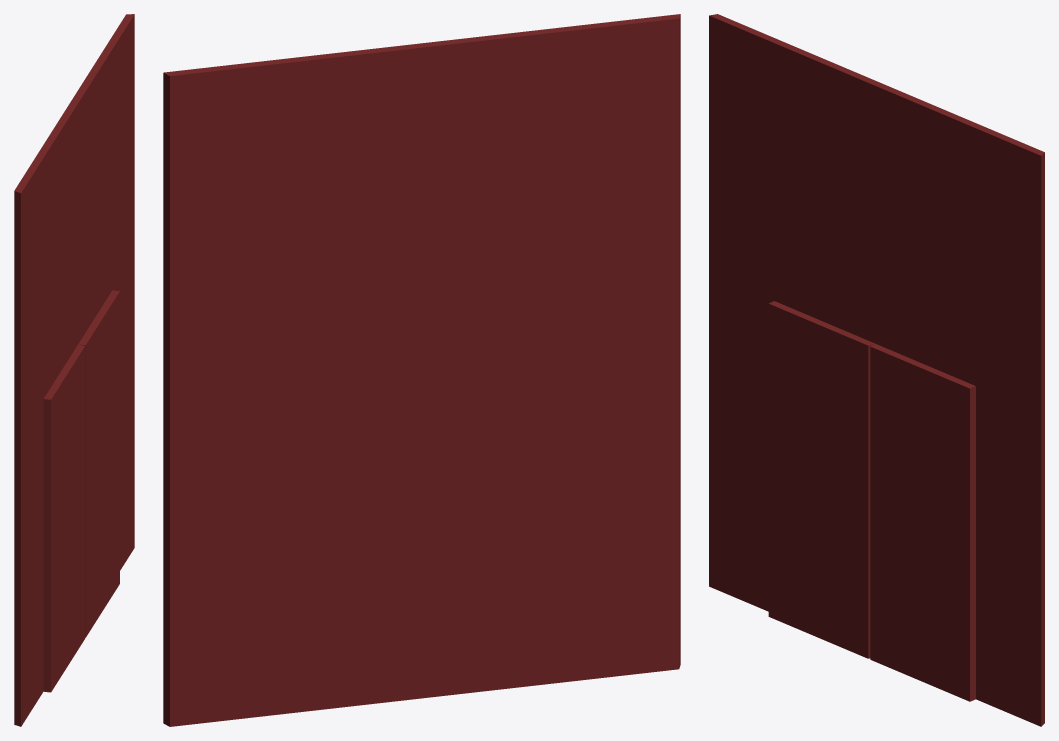
The model's file is Door.fbx.
The picture shows the model from 3 angles, left to right: view 1: azimuth 30°, elevation 25°; view 2: azimuth 150°, elevation 25°; view 3: azimuth 270°, elevation 25°; orthographic projection. The views are drawn at different scales.
Parts seen in each view (by area): view 1: Glass21, Glass_Door; view 2: Glass21; view 3: Glass21, Glass_Door.
Part boxes in pixels (box(x1,y1,x2,y2)): Glass21: box(14, 14, 134, 726); Glass_Door: box(43, 290, 119, 692); Glass21: box(163, 14, 680, 726); Glass21: box(709, 14, 1044, 726); Glass_Door: box(768, 301, 975, 701).
Size of the model in its own units: 533 by 1000 by 533.
